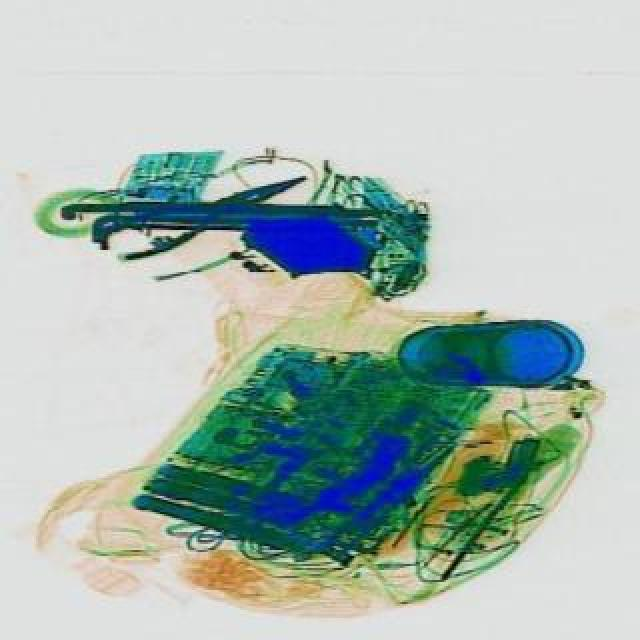wrench: (90, 154, 312, 268)
